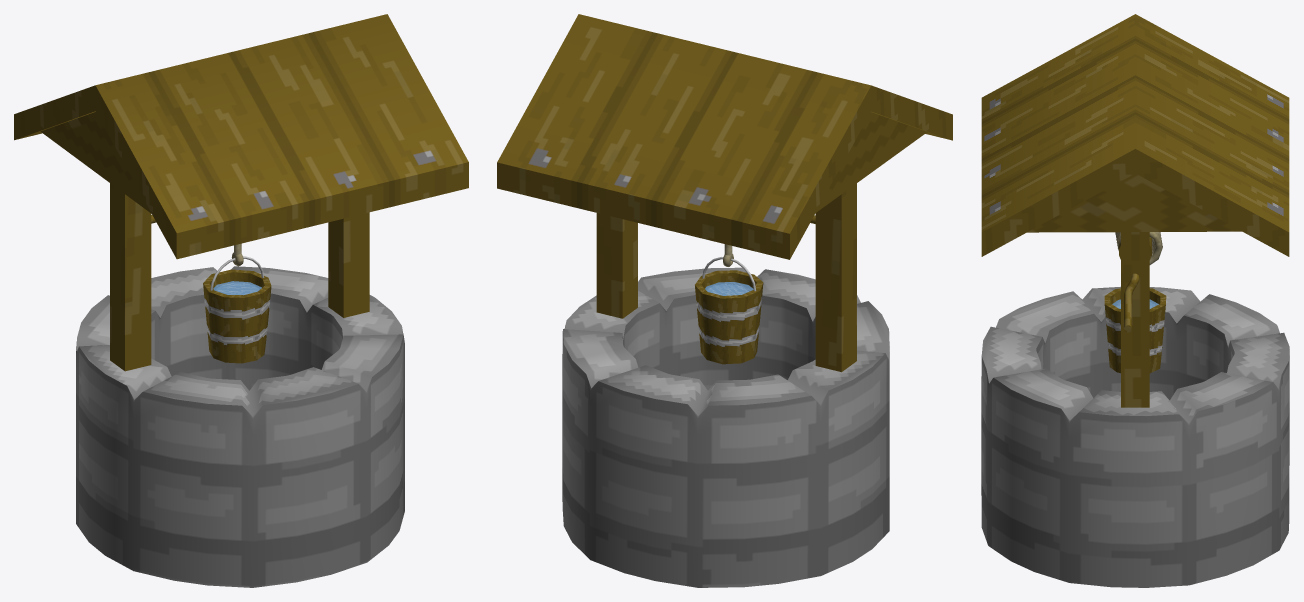
Rendered from MaxWellUpgraded.fbx.
3 renders of one model, left to right at view 1: azimuth 30°, elevation 25°; view 2: azimuth 150°, elevation 25°; view 3: azimuth 270°, elevation 25°, orthographic. The views are drawn at different scales.
Visible parts, largest first — view 1: well002, UPGRADEDroof, UPGRADEDpole005, UPGRADEDbucket, UPGRADEDpole2, UPGRADEDside2; view 2: well002, UPGRADEDroof, UPGRADEDpole005, UPGRADEDbucket, UPGRADEDpole2, UPGRADEDside2; view 3: well002, UPGRADEDroof, UPGRADEDside003, UPGRADEDpole2, UPGRADEDbucket, UPGRADEDcylinder.
Boxes of the visible parts, <box> form: well002: <box>76,266,404,587</box>; UPGRADEDroof: <box>14,14,468,259</box>; UPGRADEDpole005: <box>110,183,151,371</box>; UPGRADEDbucket: <box>203,269,271,363</box>; UPGRADEDpole2: <box>328,212,369,317</box>; UPGRADEDside2: <box>40,112,151,213</box>; well002: <box>562,267,889,587</box>; UPGRADEDroof: <box>497,14,952,259</box>; UPGRADEDpole005: <box>815,183,856,372</box>; UPGRADEDbucket: <box>695,270,763,364</box>; UPGRADEDpole2: <box>596,213,637,318</box>; UPGRADEDside2: <box>816,112,926,212</box>; well002: <box>981,286,1289,587</box>; UPGRADEDroof: <box>981,14,1289,256</box>; UPGRADEDside003: <box>1027,173,1241,232</box>; UPGRADEDpole2: <box>1121,232,1149,407</box>; UPGRADEDbucket: <box>1104,288,1166,373</box>; UPGRADEDcylinder: <box>1119,237,1151,332</box>.
Bounding box in the file's own units: 161 × 203 × 128.
6 materials, 5 textured.
